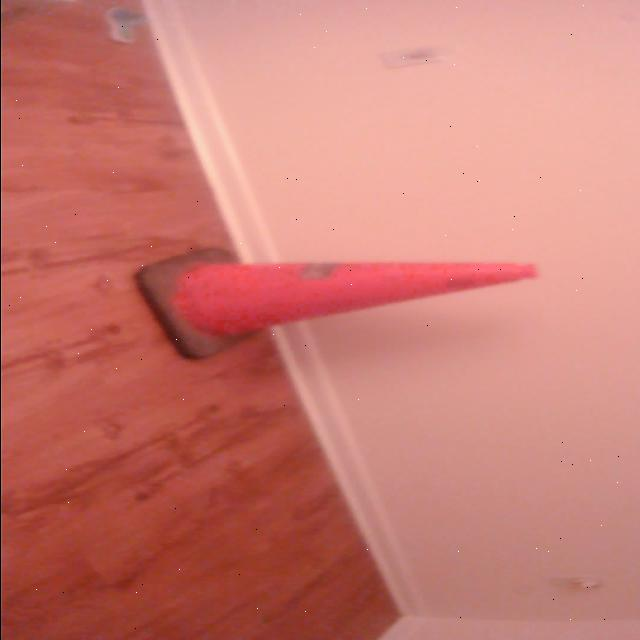traffic cone: (132, 247, 544, 365)
